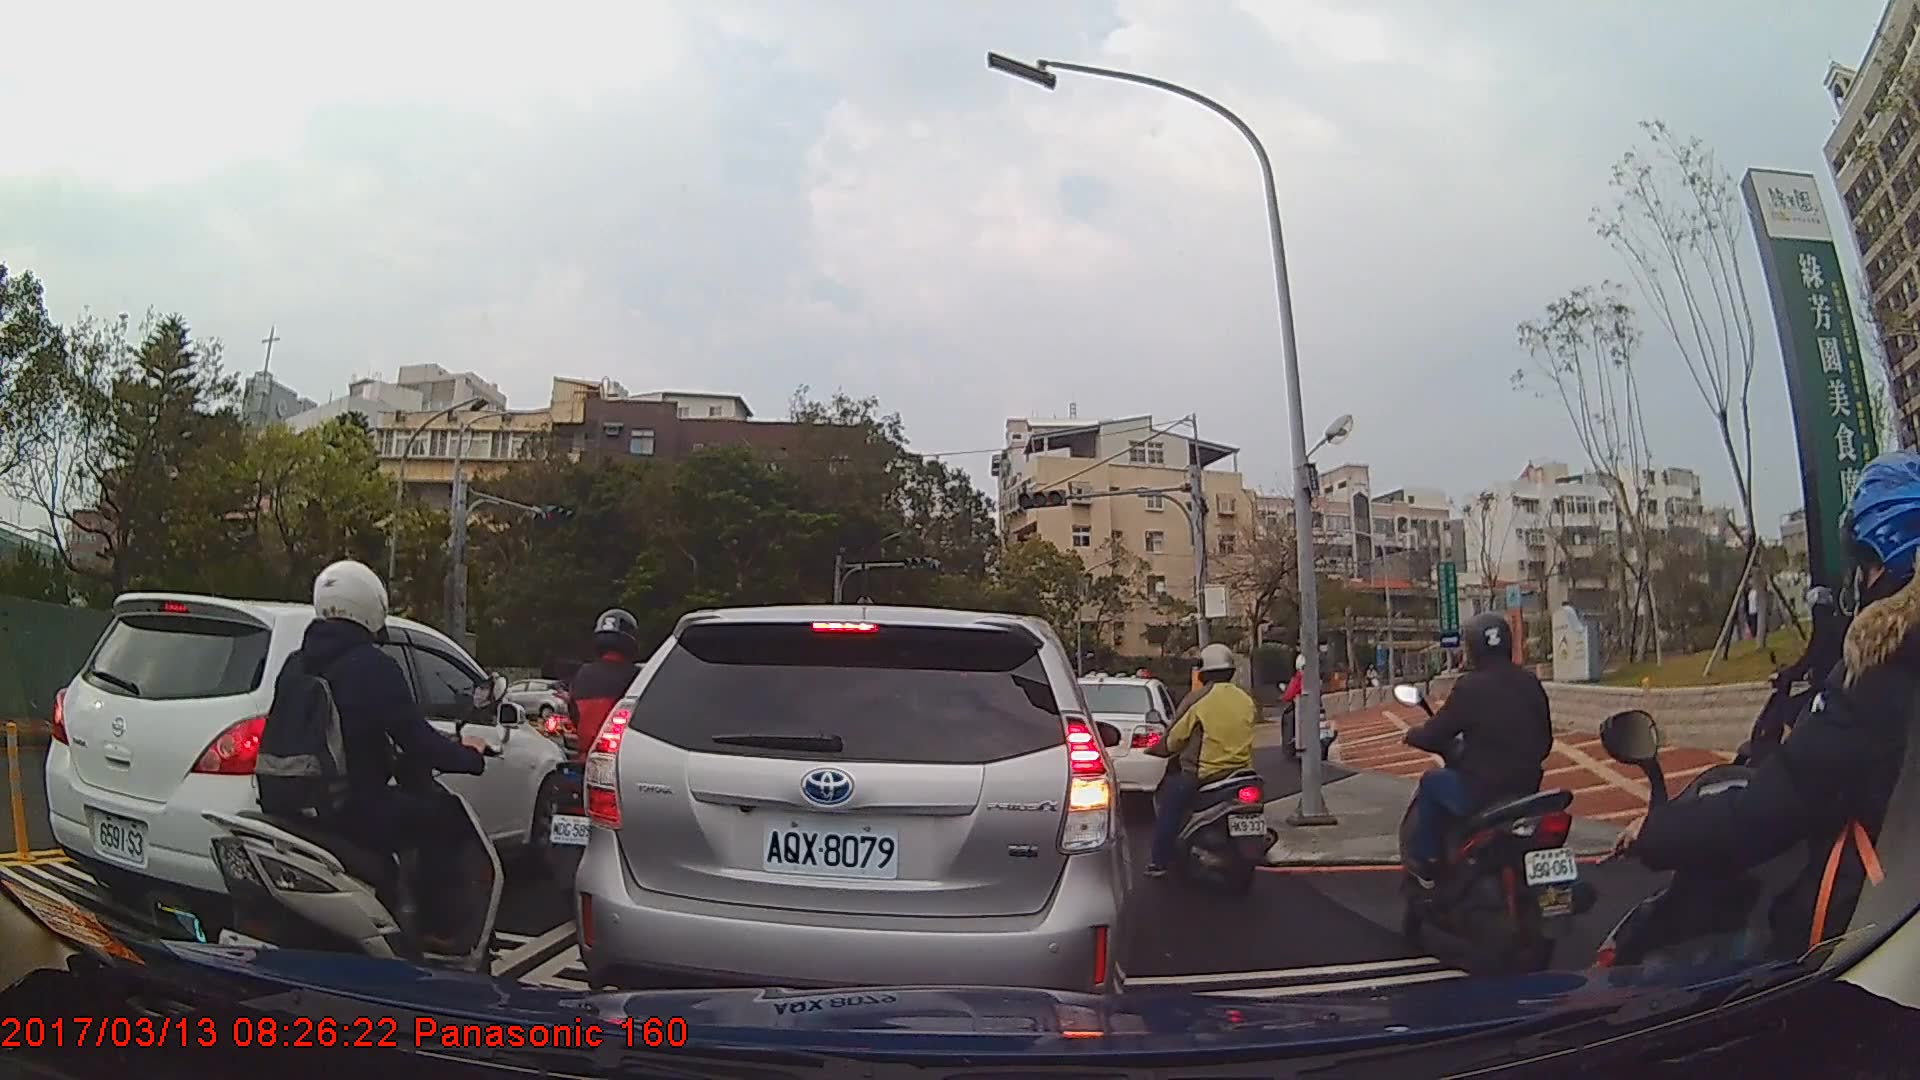pedestrian: (1734, 566, 1775, 645), (1725, 580, 1761, 647)
rider: (1572, 453, 1920, 1078), (200, 554, 509, 1016), (1386, 609, 1593, 969), (541, 607, 675, 917), (1145, 640, 1274, 891), (1747, 584, 1904, 770), (1279, 654, 1340, 766)
vehicle: (569, 602, 1133, 1034), (41, 591, 572, 929), (1065, 673, 1186, 809), (496, 677, 573, 722)
